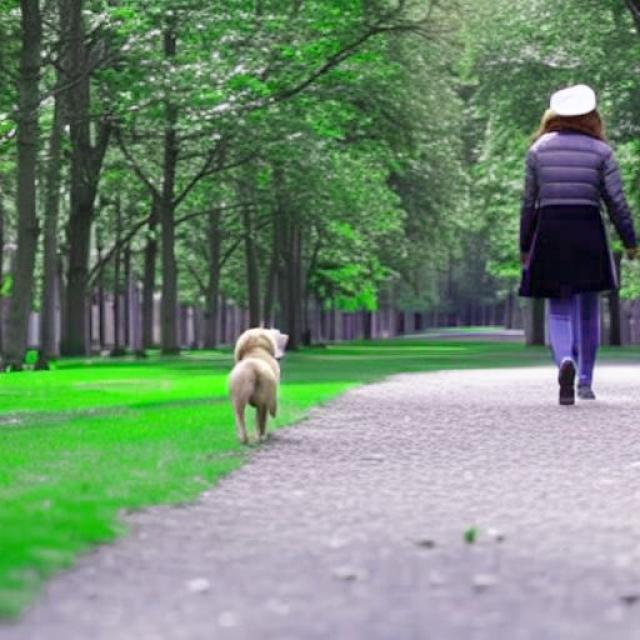Unleashed_Dog: (231, 290, 598, 442)
